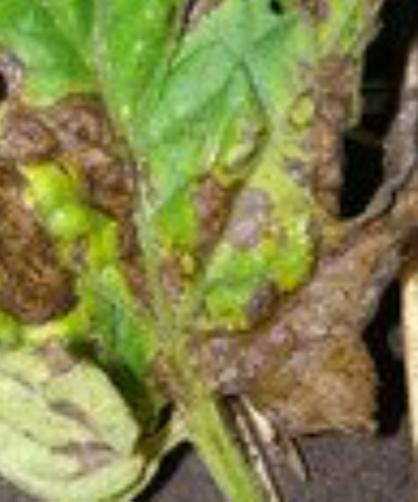Tomato Early blight leaf: (0, 0, 415, 465)
